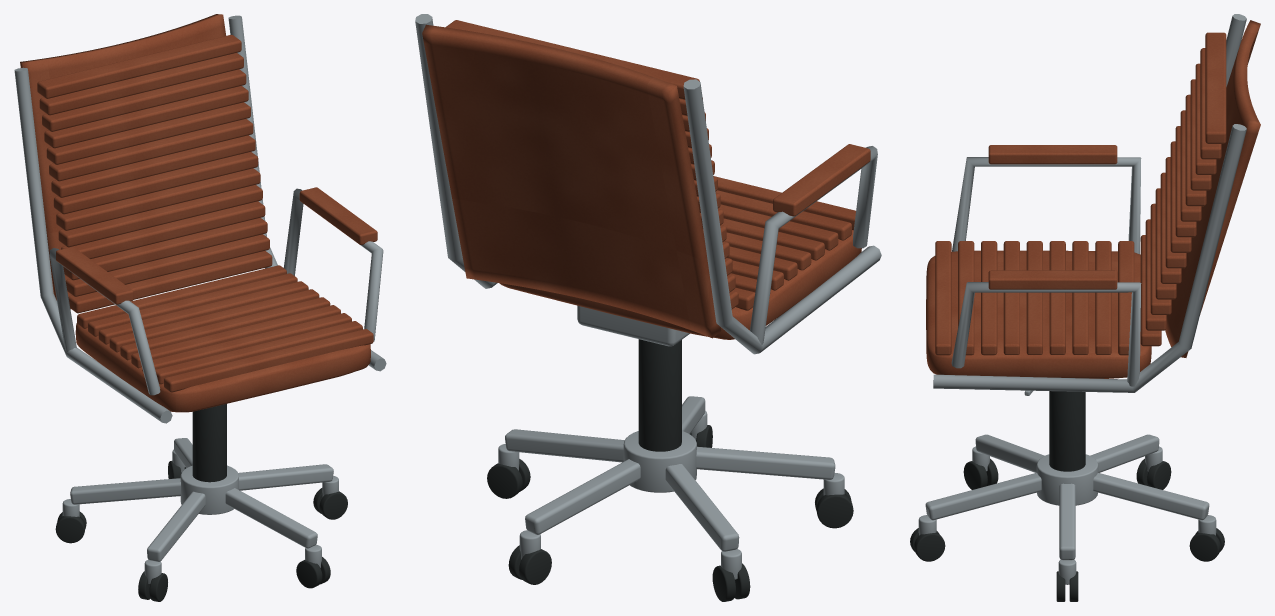
The picture shows the model from 3 angles, left to right: view 1: azimuth 30°, elevation 25°; view 2: azimuth 150°, elevation 25°; view 3: azimuth 270°, elevation 25°; orthographic projection. The views are drawn at different scales.
Parts seen in each view (by area): view 1: Leather | ribbed seat foundation, Leather | tensioned tall back, Aluminum | continuous side extrusion, Leather | horizontal back rib.013, Leather | horizontal back rib.006, Leather | horizontal back rib.010, Leather | horizontal back rib.004, Leather | horizontal back rib.012, Leather | horizontal back rib.008, Leather | horizontal back rib.007, Leather | horizontal back rib.009, Leather | horizontal back rib.005 (+28 smaller); view 2: Leather | tensioned tall back, Aluminum | continuous side extrusion, Lift | lower cover, Leather | ribbed seat foundation, Aluminum | cantilever arm, Base | five-star spoke.003, Base | five-star spoke.001, Aluminum | continuous side extrusion.001, Leather | arm sleeve, Base | five-star spoke, Lift | central hub, Base | five-star spoke.002 (+13 smaller); view 3: Leather | ribbed seat foundation, Aluminum | continuous side extrusion.001, Leather | tensioned tall back, Aluminum | cantilever arm.001, Lift | lower cover, Aluminum | cantilever arm, Leather | arm sleeve, Leather | arm sleeve.001, Leather | horizontal back rib.013, Base | five-star spoke.004, Base | five-star spoke.001, Lift | central hub (+30 smaller).
Part boxes in pixels (bbox=[...]): Leather | ribbed seat foundation: bbox=[75, 323, 370, 412]; Leather | tensioned tall back: bbox=[20, 14, 226, 309]; Aluminum | continuous side extrusion: bbox=[14, 67, 172, 423]; Leather | horizontal back rib.013: bbox=[37, 34, 241, 98]; Leather | horizontal back rib.006: bbox=[53, 152, 258, 214]; Leather | horizontal back rib.010: bbox=[44, 86, 248, 148]; Leather | horizontal back rib.004: bbox=[58, 184, 262, 247]; Leather | horizontal back rib.012: bbox=[39, 53, 243, 115]; Leather | horizontal back rib.008: bbox=[49, 119, 253, 181]; Leather | horizontal back rib.007: bbox=[51, 135, 255, 197]; Leather | horizontal back rib.009: bbox=[46, 102, 250, 164]; Leather | horizontal back rib.005: bbox=[56, 168, 260, 230]; Leather | tensioned tall back: bbox=[422, 24, 721, 338]; Aluminum | continuous side extrusion: bbox=[683, 79, 881, 354]; Lift | lower cover: bbox=[638, 339, 681, 451]; Leather | ribbed seat foundation: bbox=[499, 230, 861, 339]; Aluminum | cantilever arm: bbox=[750, 146, 877, 344]; Base | five-star spoke.003: bbox=[696, 446, 835, 479]; Base | five-star spoke.001: bbox=[525, 459, 640, 534]; Aluminum | continuous side extrusion.001: bbox=[415, 14, 497, 288]; Leather | arm sleeve: bbox=[773, 144, 870, 216]; Base | five-star spoke: bbox=[505, 429, 624, 462]; Lift | central hub: bbox=[623, 431, 696, 492]; Base | five-star spoke.002: bbox=[665, 464, 739, 551]; Leather | ribbed seat foundation: bbox=[926, 250, 1151, 378]; Aluminum | continuous side extrusion.001: bbox=[933, 124, 1246, 392]; Leather | tensioned tall back: bbox=[1165, 20, 1260, 357]; Aluminum | cantilever arm.001: bbox=[951, 282, 1141, 386]; Lift | lower cover: bbox=[1049, 391, 1085, 471]; Aluminum | cantilever arm: bbox=[952, 157, 1141, 254]; Leather | arm sleeve: bbox=[988, 145, 1117, 164]; Leather | arm sleeve.001: bbox=[988, 270, 1117, 289]; Leather | horizontal back rib.013: bbox=[1205, 32, 1226, 143]; Base | five-star spoke.004: bbox=[925, 472, 1041, 520]; Base | five-star spoke.001: bbox=[1093, 472, 1209, 520]; Lift | central hub: bbox=[1036, 454, 1098, 505].
Size of the model in its own units: 0.6901 by 1.11 by 0.7519.
3 materials, 1 textured.
